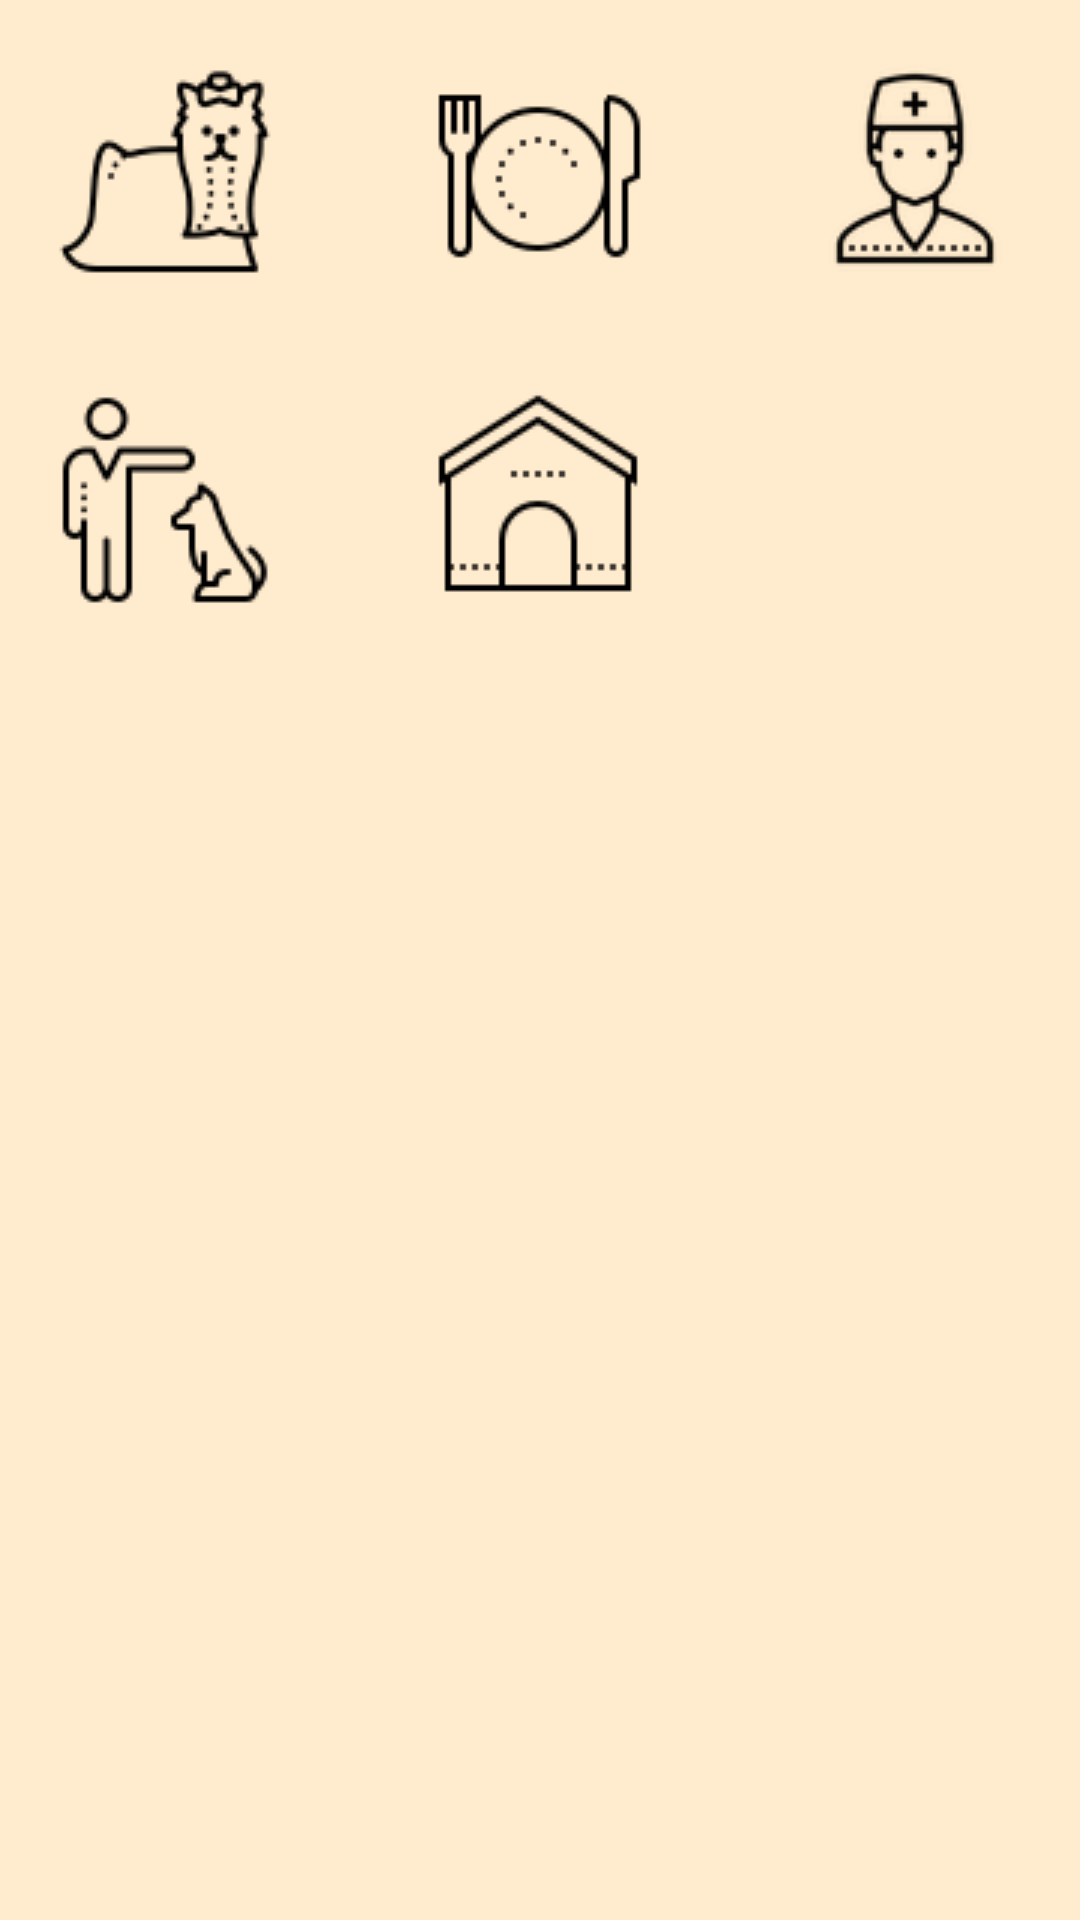

Where to tap for icons on this 1080*1920 app screen, as [x,y]:
groom: [165,171]
lodge: [538,493]
trainer: [165,500]
vet: [915,168]
